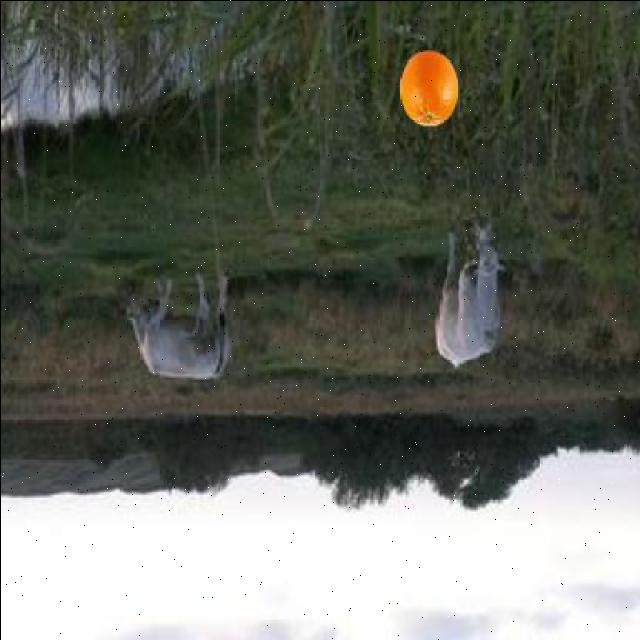Orange: (398, 49, 460, 128)
